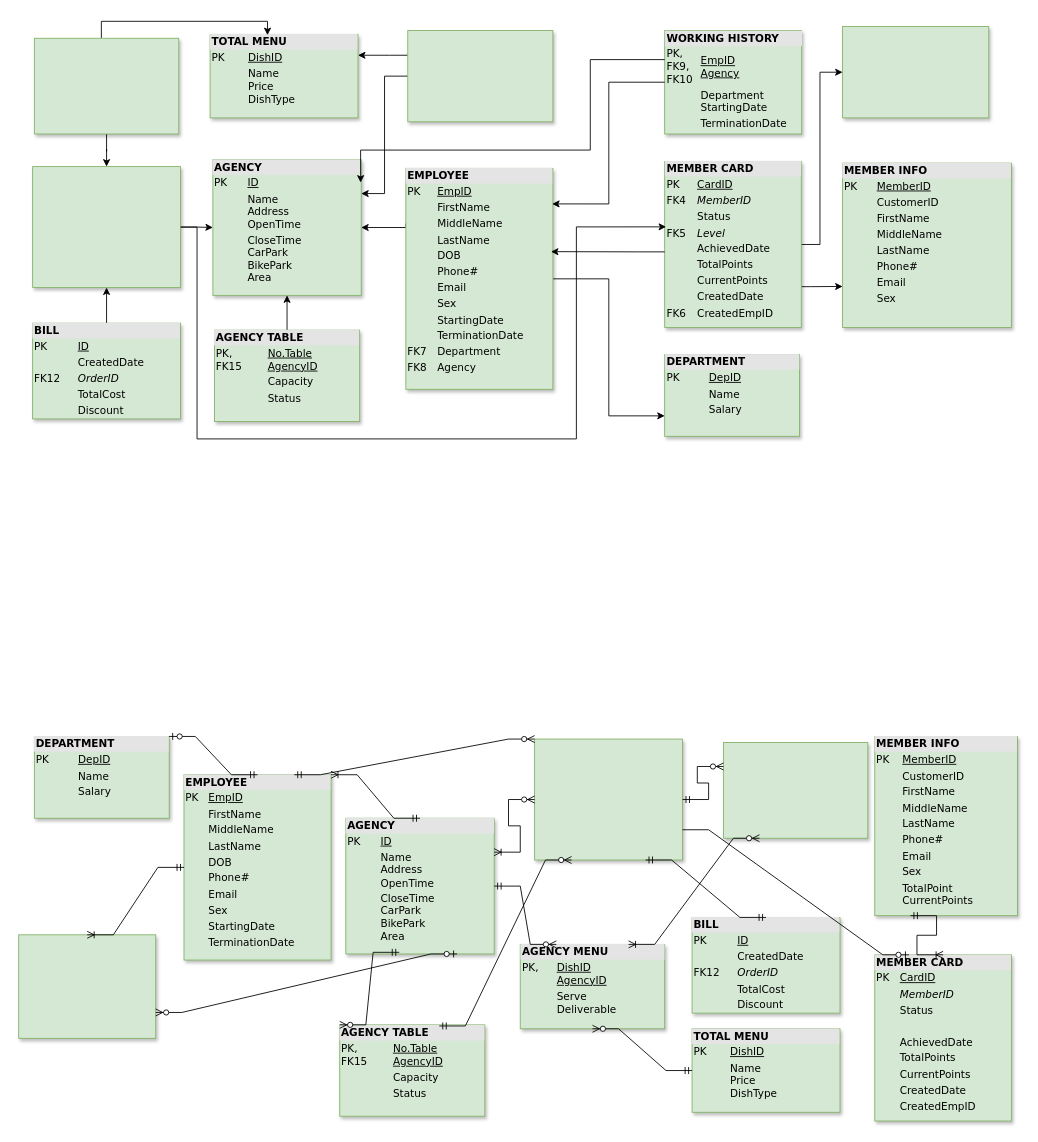
Image size: 1038x1142. Some labels were removed from this diagram. Here are the shapes that lost their labels. From the top down, the centre of each, then its label:
At pixel 107 87: "ORDER DETAIL PK, FK13, FK14 OderID DishID Amount CreatedDate".
At pixel 480 77: "AGENCY MENU PK, FK1, FK2 DishID AgencyID Serve Deliverable".
At pixel 916 73: "MEMBERSHIP LEVEL PK Level DiscountRate Achieve Maintain".
At pixel 107 228: "ORDER PK ID CreatedDate EmpID No.Table CardID FK11 AgencyID TimeArrive".
At pixel 609 800: "ORDER PK ID CreatedDate EmpID No.Table MemberID TimeArrive".
At pixel 796 791: "ORDER DETAIL PK, OderID DishID Amount CreatedDate".
At pixel 87 987: "WORKING HISTORY PK, EmpID Agency Department StartingDate TerminationDate".
